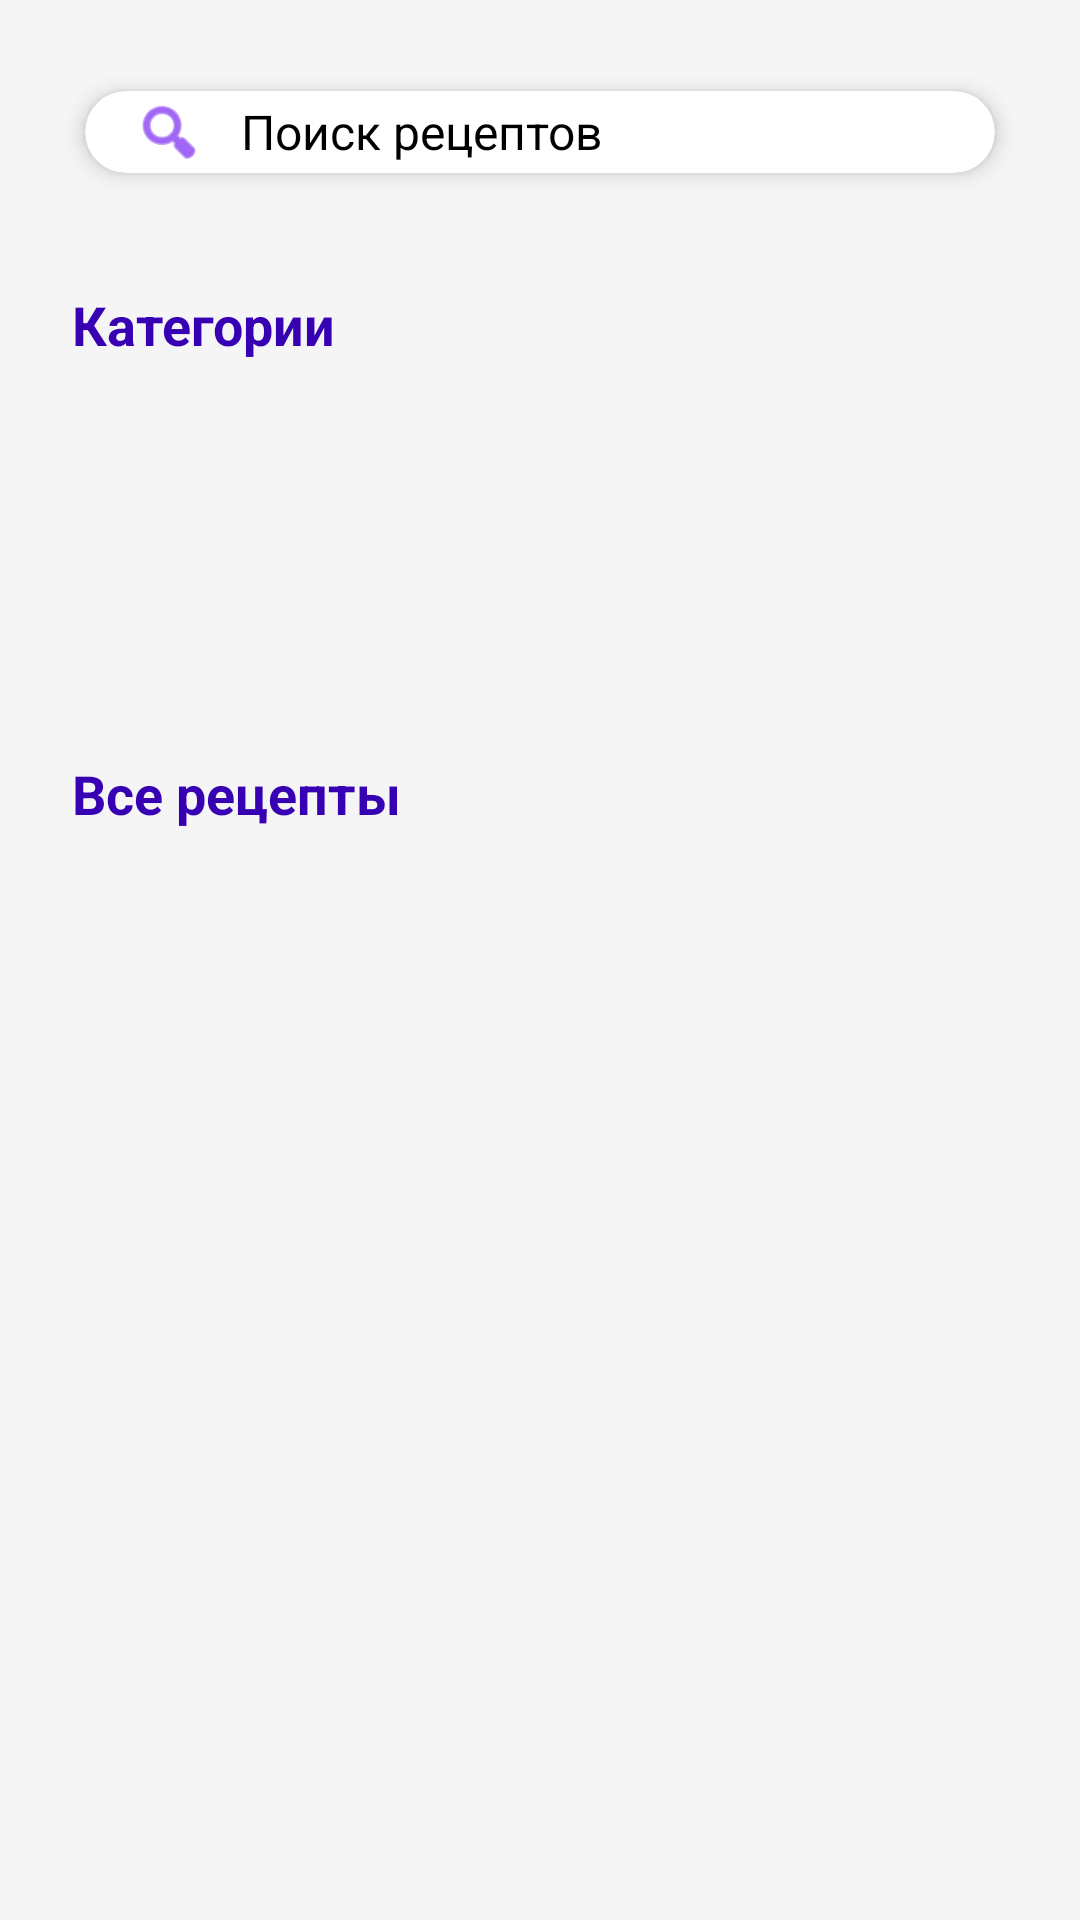

Where to tap for icons on this 1080px x 1920px app screen, as [x,y]:
search: [169,132]
